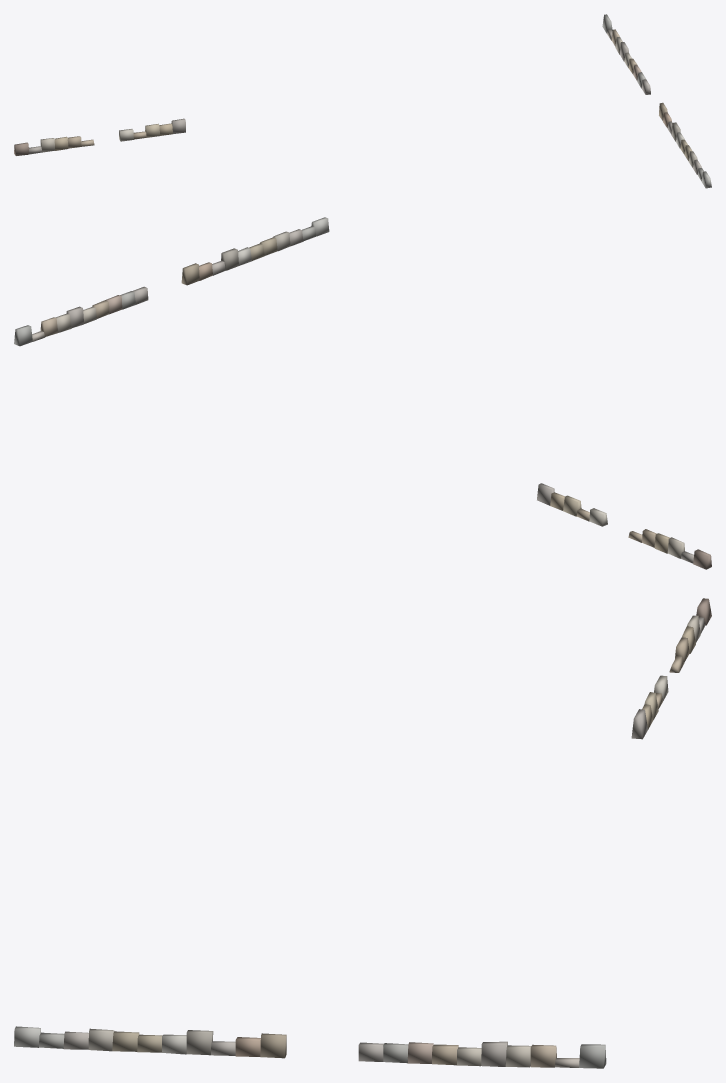
File: farm_10_7_far.glb
3 renders of one model, top to bottom at view 1: azimuth 30°, elevation 25°; view 2: azimuth 150°, elevation 25°; view 3: azimuth 270°, elevation 25°, orthographic. The views are drawn at different scales.
Parts seen in each view (by area): view 1: geometry_0; view 2: geometry_0; view 3: geometry_0.
Boxes of the visible parts, x1=… form: geometry_0: x1=14, y1=14, x2=711, y2=188; geometry_0: x1=14, y1=217, x2=711, y2=569; geometry_0: x1=14, y1=598, x2=711, y2=1068.
Size of the model in its own units: 70.6 by 3.88 by 43.74.
